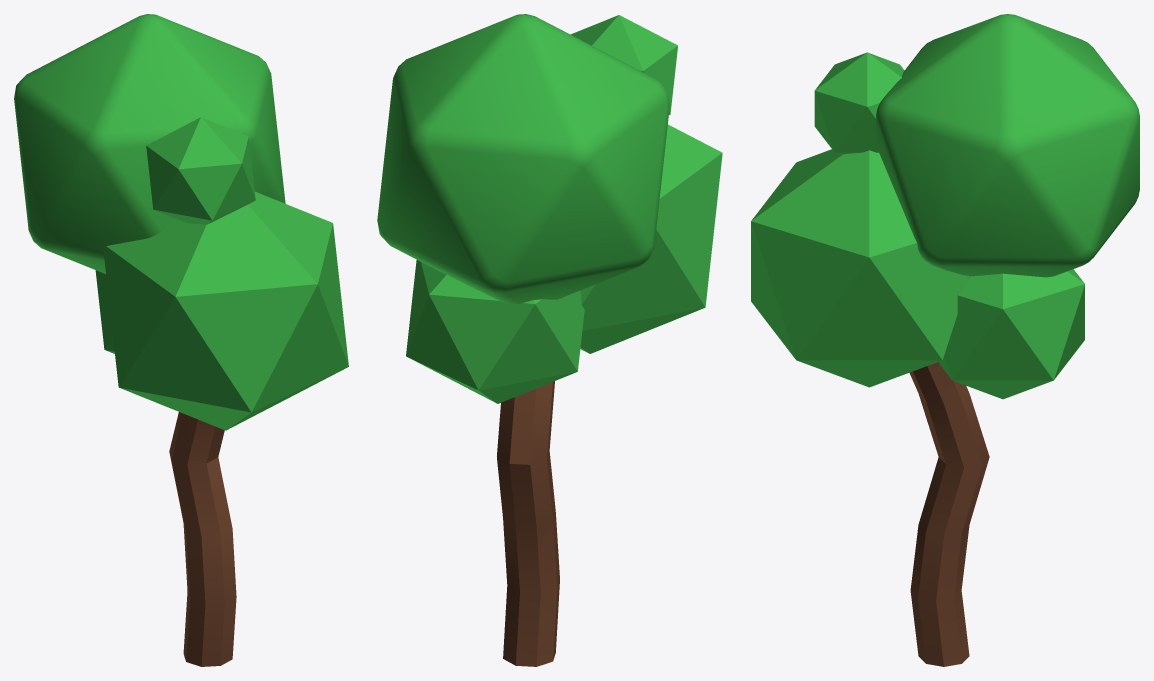
The model's file is Tree1.fbx.
3 renders of one model, left to right at view 1: azimuth 30°, elevation 25°; view 2: azimuth 150°, elevation 25°; view 3: azimuth 270°, elevation 25°, orthographic. The views are drawn at different scales.
Parts seen in each view (by area): view 1: Icosphere.002; view 2: Icosphere.002; view 3: Icosphere.002.
Boxes of the visible parts, left/top/right/bottom form: Icosphere.002: left=14, top=14, right=348, bottom=666; Icosphere.002: left=377, top=14, right=722, bottom=666; Icosphere.002: left=751, top=14, right=1139, bottom=666.
Size of the model in its own units: 6.14 by 15.46 by 8.69.
